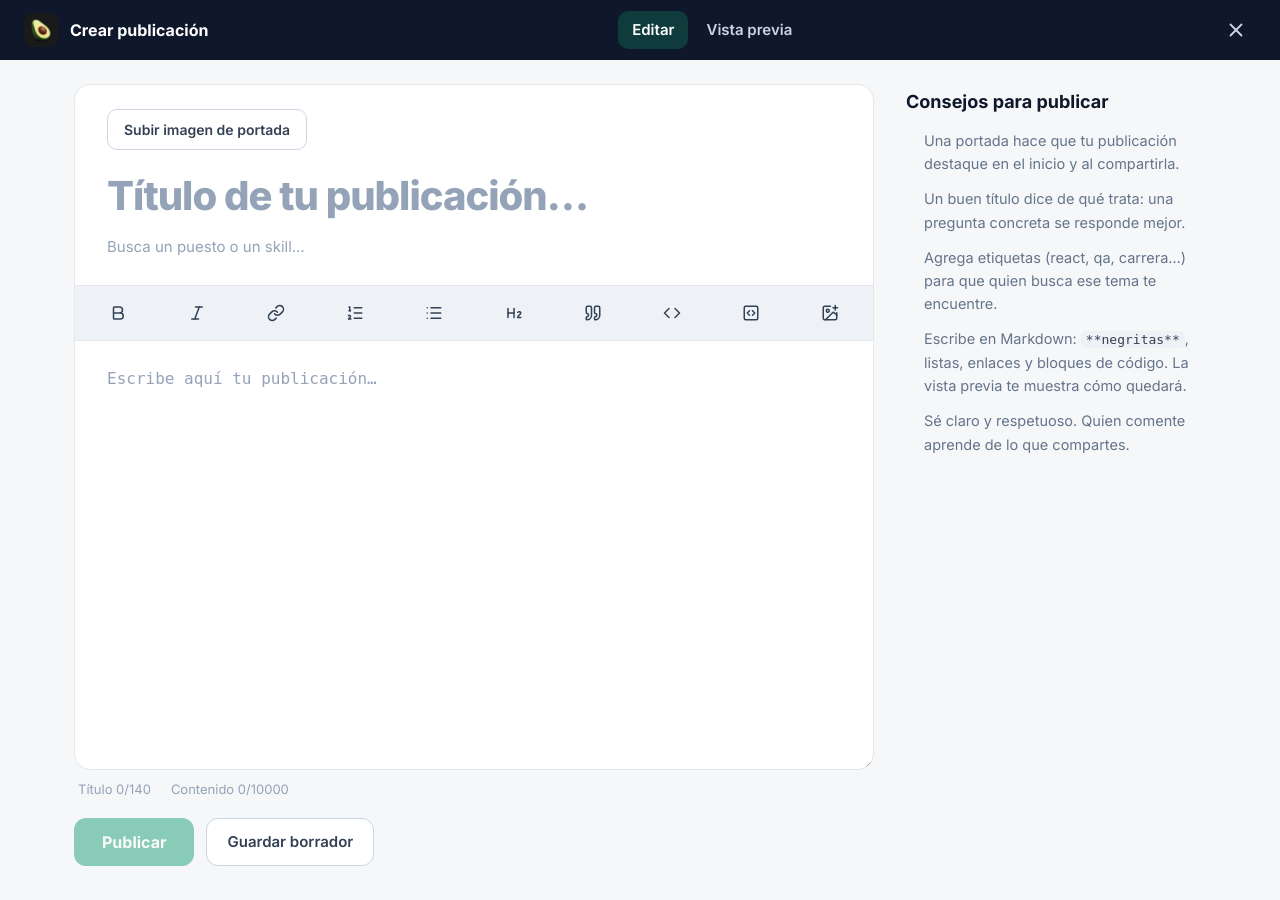
the toolbar › wraps the selected text in bold
Type "hola mundo" into the text box named "Contenido" at (474, 555), box [75,340,873,769]
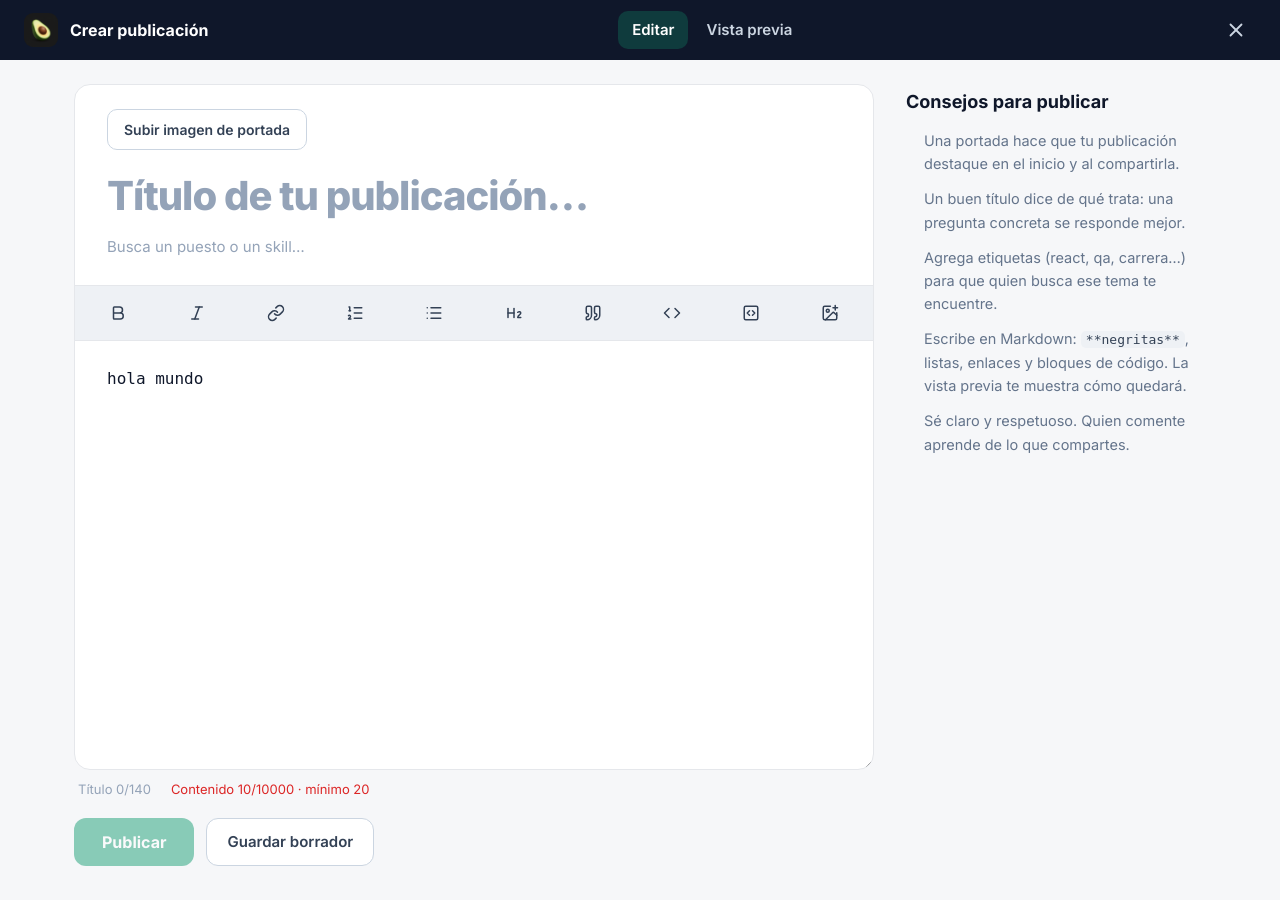
Click the button named "Negritas" at (118, 312), box [99,294,137,332]
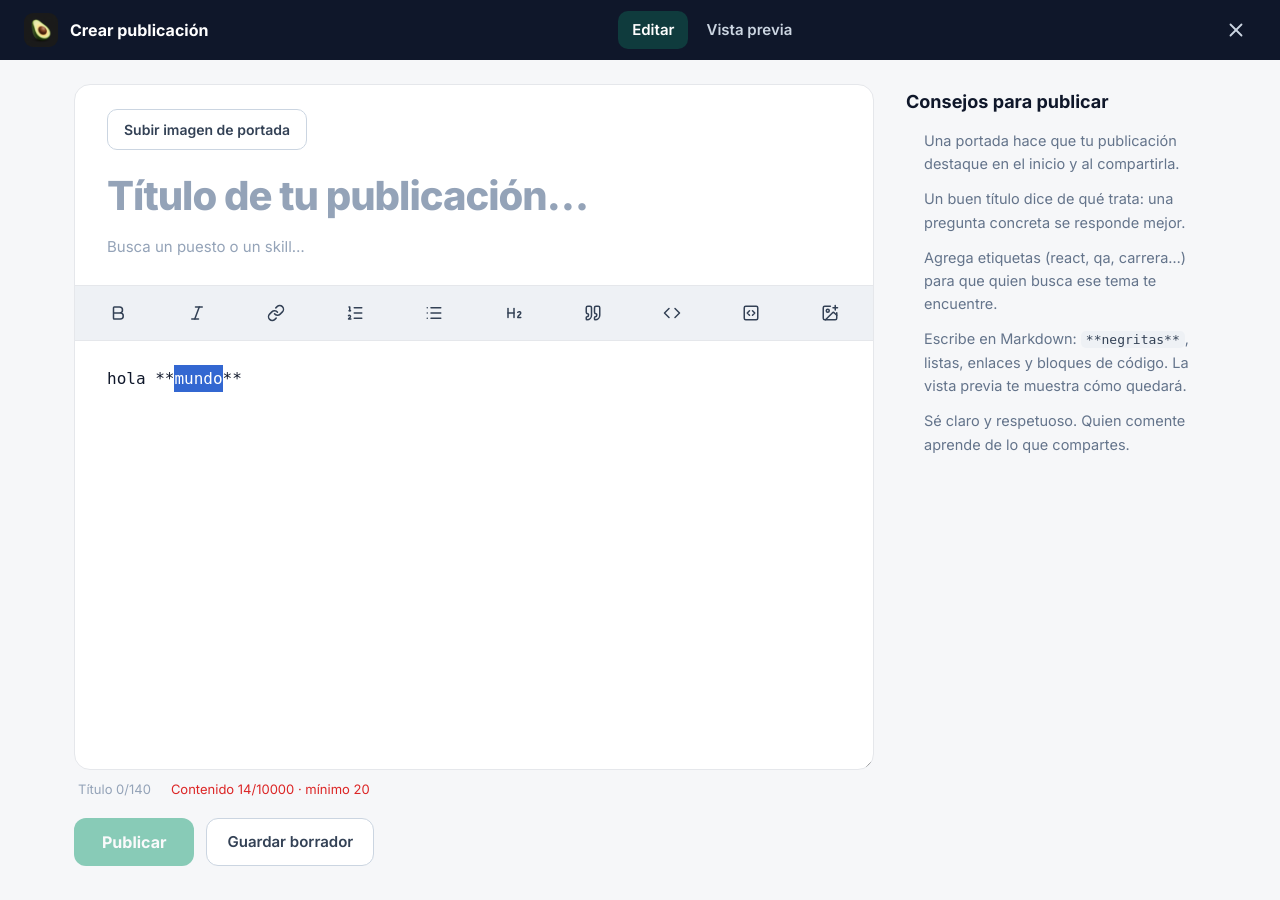
Result: the text box named "Contenido" holds "hola **mundo**" at [75,340,873,769]
